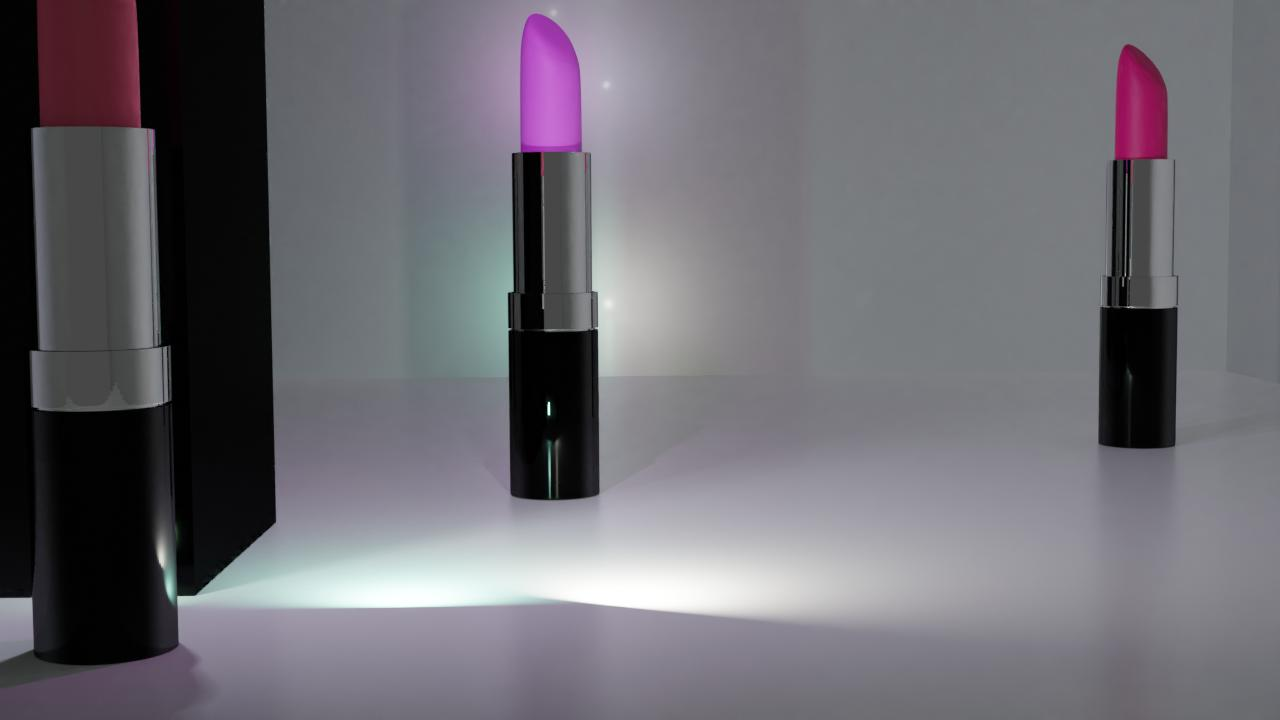CLASSIFIER_NAME: (20, 0, 183, 676), (506, 7, 600, 500), (1096, 39, 1180, 448)
